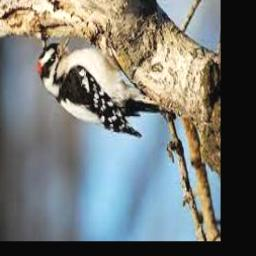Woodpecker: (38, 35, 176, 137)
